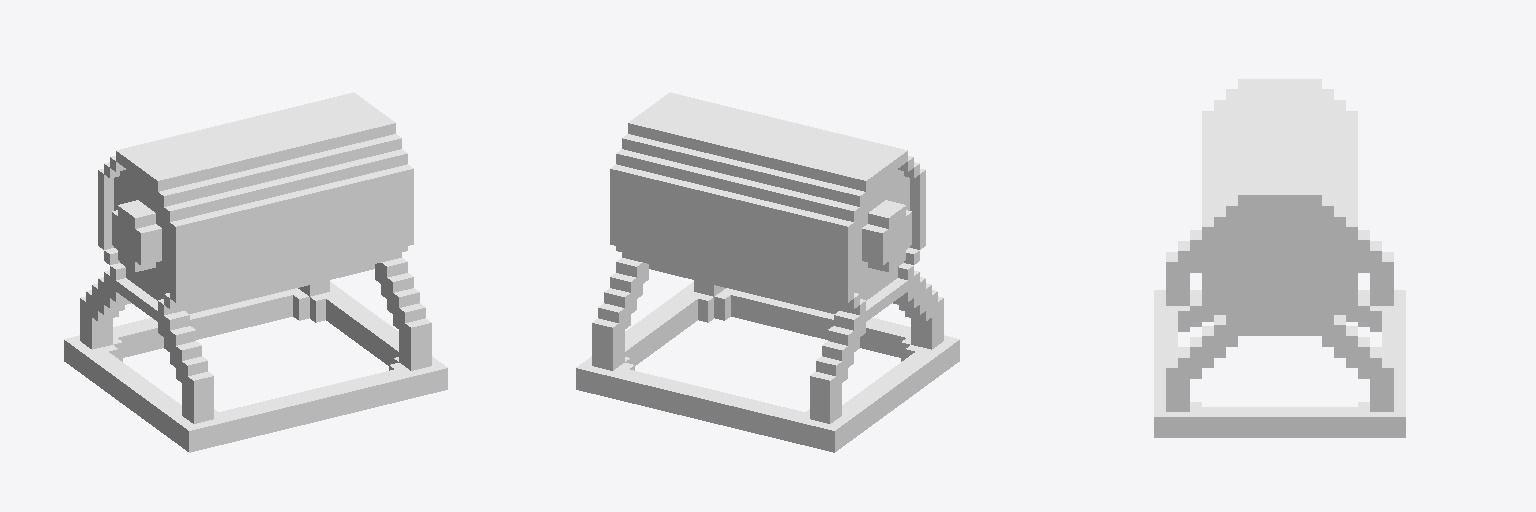
The model's file is generator.obj.
3 views of the same model, side by side, from view 1: azimuth 30°, elevation 25°; view 2: azimuth 150°, elevation 25°; view 3: azimuth 270°, elevation 25° (orthographic).
Size of the model in its own units: 1 by 0.88 by 0.84.